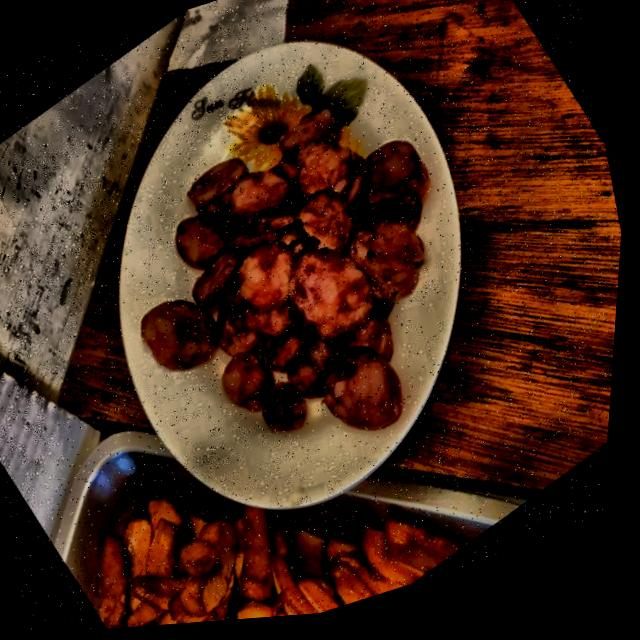Food: (52, 28, 574, 563)
